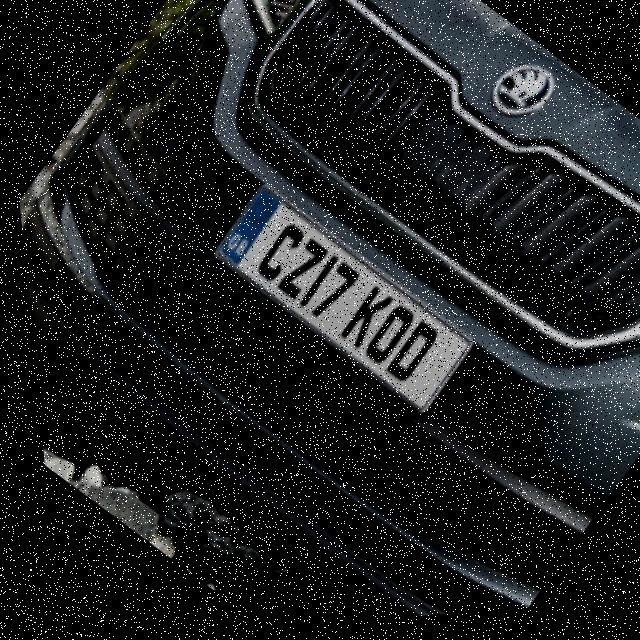license_plate: (202, 173, 475, 424)
